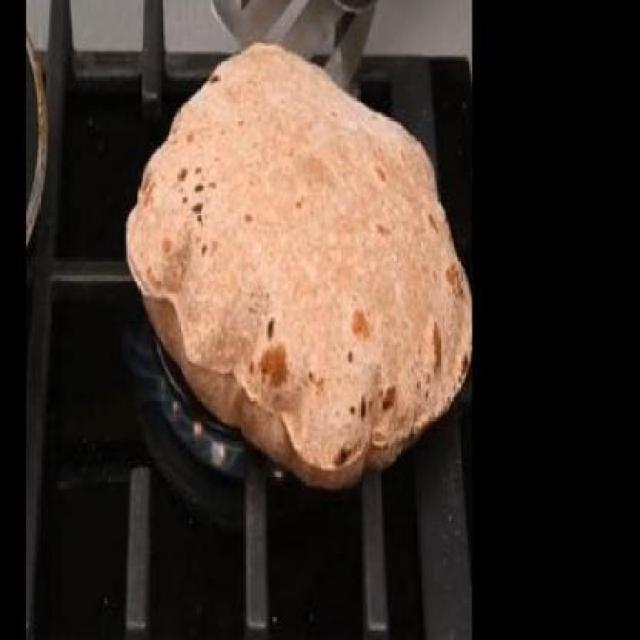chapati: (126, 41, 472, 488)
